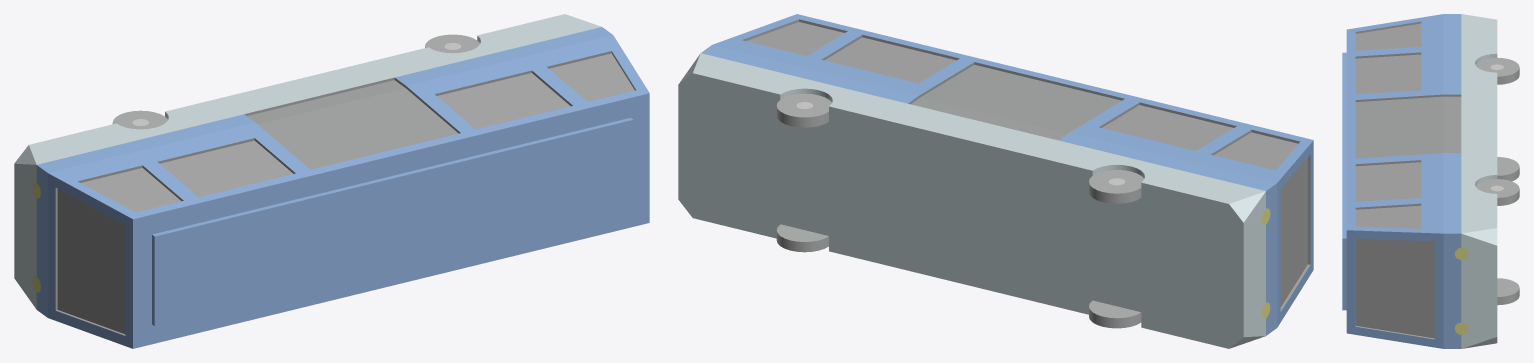
Rendered from shuttle.dae.
3 views of the same model, side by side, from view 1: azimuth 30°, elevation 25°; view 2: azimuth 150°, elevation 25°; view 3: azimuth 270°, elevation 25° (orthographic). The views are drawn at different scales.
Parts seen in each view (by area): view 1: _2_sides, _4_windows, _1_face, _3_door, _5_wheels; view 2: _1_face, _2_sides, _4_windows, _3_door, _5_wheels; view 3: _2_sides, _4_windows, _1_face, _3_door, _5_wheels, _7_lights.
Boxes of the visible parts, <box> form: _2_sides: <box>36,27,649,348</box>; _4_windows: <box>55,51,635,335</box>; _1_face: <box>14,14,601,309</box>; _3_door: <box>247,80,458,169</box>; _5_wheels: <box>112,34,480,129</box>; _1_face: <box>678,53,1265,348</box>; _2_sides: <box>701,14,1313,335</box>; _4_windows: <box>742,19,1310,311</box>; _3_door: <box>911,64,1121,140</box>; _5_wheels: <box>776,93,1144,328</box>; _2_sides: <box>1342,14,1461,348</box>; _4_windows: <box>1355,21,1461,339</box>; _1_face: <box>1461,14,1497,348</box>; _3_door: <box>1355,96,1461,158</box>; _5_wheels: <box>1475,57,1519,305</box>; _7_lights: <box>1454,248,1467,334</box>.
Bounding box in the file's own units: 4571 × 1120 × 1559.
